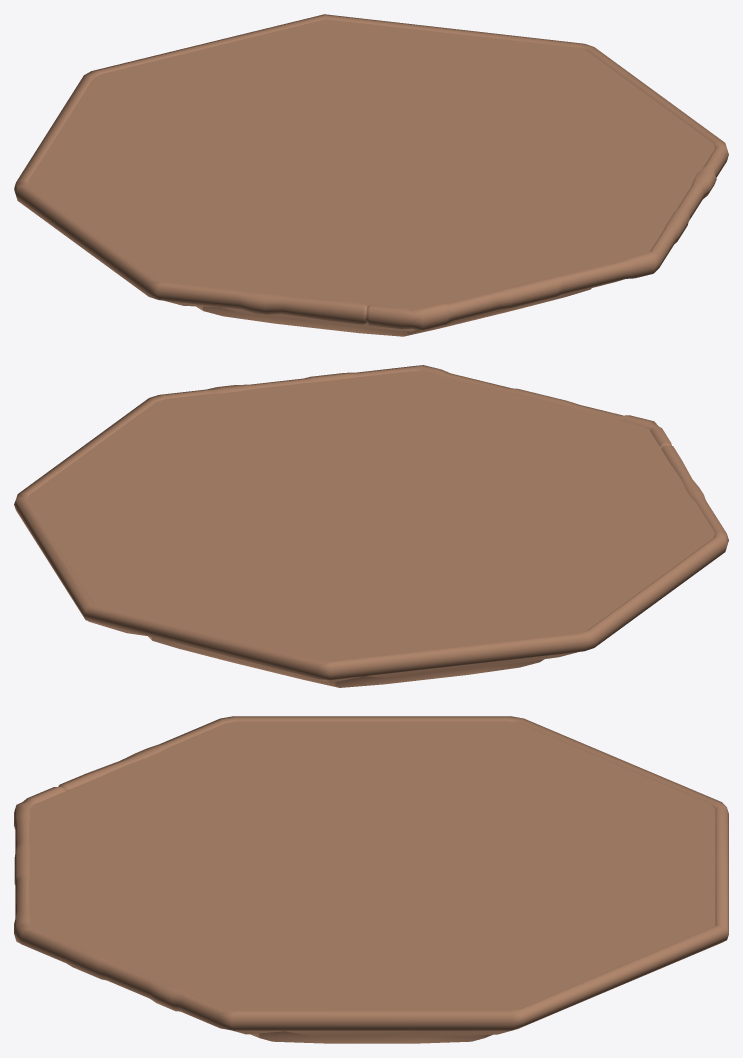
Rendered from Mainstage.fbx.
The picture shows the model from 3 angles, top to bottom: view 1: azimuth 30°, elevation 25°; view 2: azimuth 150°, elevation 25°; view 3: azimuth 270°, elevation 25°; orthographic projection. The views are drawn at different scales.
Parts seen in each view (by area): view 1: trim, main_low1, main_low, main_low2, main_low3, main_low6, main_low4, main_low7, main_low5; view 2: trim, main_low3, main_low4, main_low5, main_low2, main_low6, main_low1, main_low7, main_low; view 3: main_low6, trim, main_low5, main_low4, main_low3, main_low2, main_low7, main_low, main_low1.
Part boxes in pixels (x1,y1,x2,y2): trim: [14, 14, 728, 330]; main_low1: [161, 165, 415, 336]; main_low: [371, 165, 643, 336]; main_low2: [28, 165, 370, 310]; main_low3: [28, 76, 370, 184]; main_low6: [372, 49, 714, 165]; main_low4: [97, 19, 371, 164]; main_low7: [372, 146, 714, 288]; main_low5: [326, 19, 581, 164]; trim: [14, 365, 728, 679]; main_low3: [326, 516, 581, 687]; main_low4: [91, 516, 371, 687]; main_low5: [28, 497, 370, 640]; main_low2: [372, 516, 713, 661]; main_low6: [29, 400, 370, 516]; main_low1: [372, 427, 714, 535]; main_low7: [161, 371, 416, 516]; main_low: [371, 372, 644, 515]; main_low6: [231, 866, 517, 1043]; trim: [14, 716, 728, 1030]; main_low5: [372, 866, 720, 1037]; main_low4: [373, 806, 722, 942]; main_low3: [372, 722, 712, 866]; main_low2: [231, 721, 512, 865]; main_low7: [32, 866, 371, 1037]; main_low: [29, 807, 370, 925]; main_low1: [32, 722, 371, 866].
Bounding box in the file's own units: 182 × 24.29 × 183.
